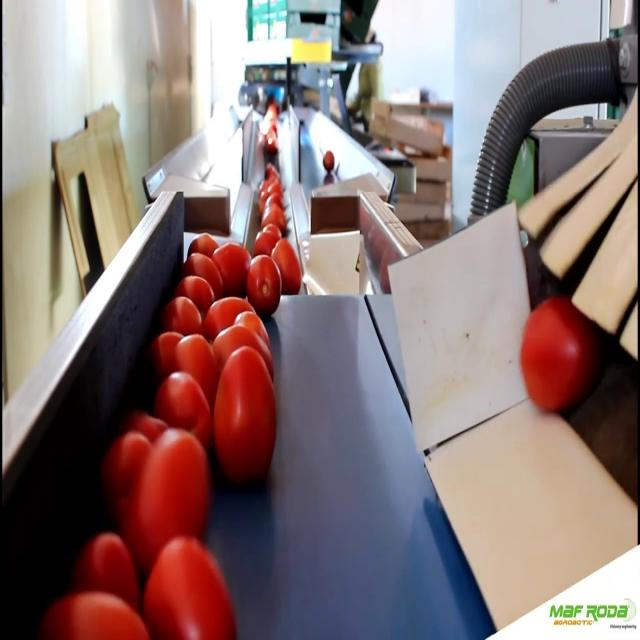Tomato: (214, 346, 277, 489), (132, 432, 212, 544), (146, 543, 238, 640), (518, 299, 593, 414), (49, 592, 150, 640), (156, 372, 210, 454), (74, 536, 139, 600), (149, 329, 216, 389), (101, 432, 148, 497), (214, 331, 272, 381), (248, 256, 284, 314), (271, 240, 308, 295), (178, 242, 222, 284), (162, 294, 199, 341), (217, 240, 251, 291), (208, 297, 252, 335), (174, 272, 213, 309), (134, 406, 168, 441), (254, 228, 274, 258), (323, 149, 341, 179)
